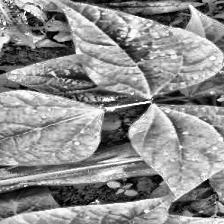Bean Rust: (48, 0, 224, 98), (127, 100, 224, 197), (0, 90, 108, 166), (0, 196, 171, 224)
